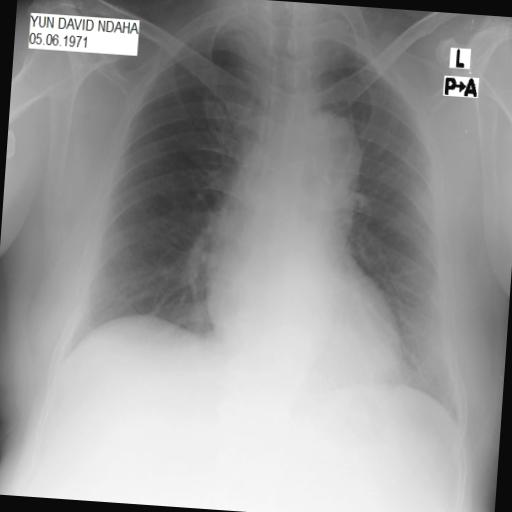kardiomegali: (195, 212, 420, 389)
